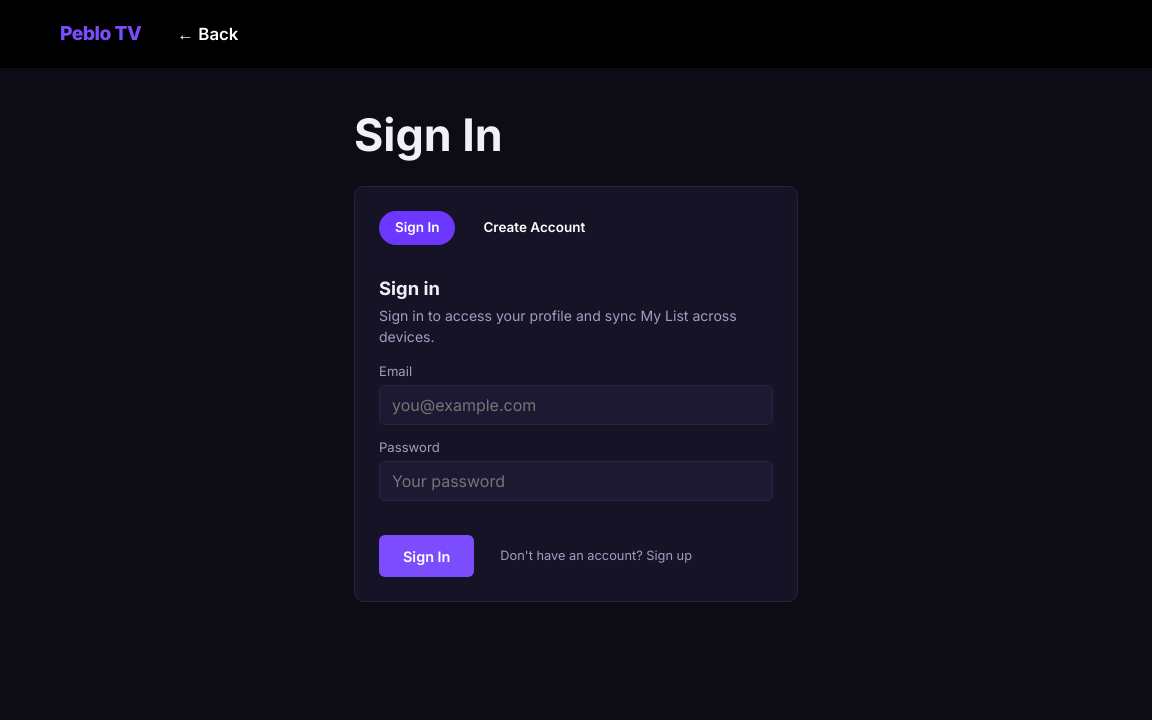
Scenario: Profile page › signs in and shows account details
The width and height of the screenshot is (1152, 720).
Type "ankit@example.com" into the field labelled "Email". click: (576, 405)
box: left=379, top=385, right=773, bottom=425
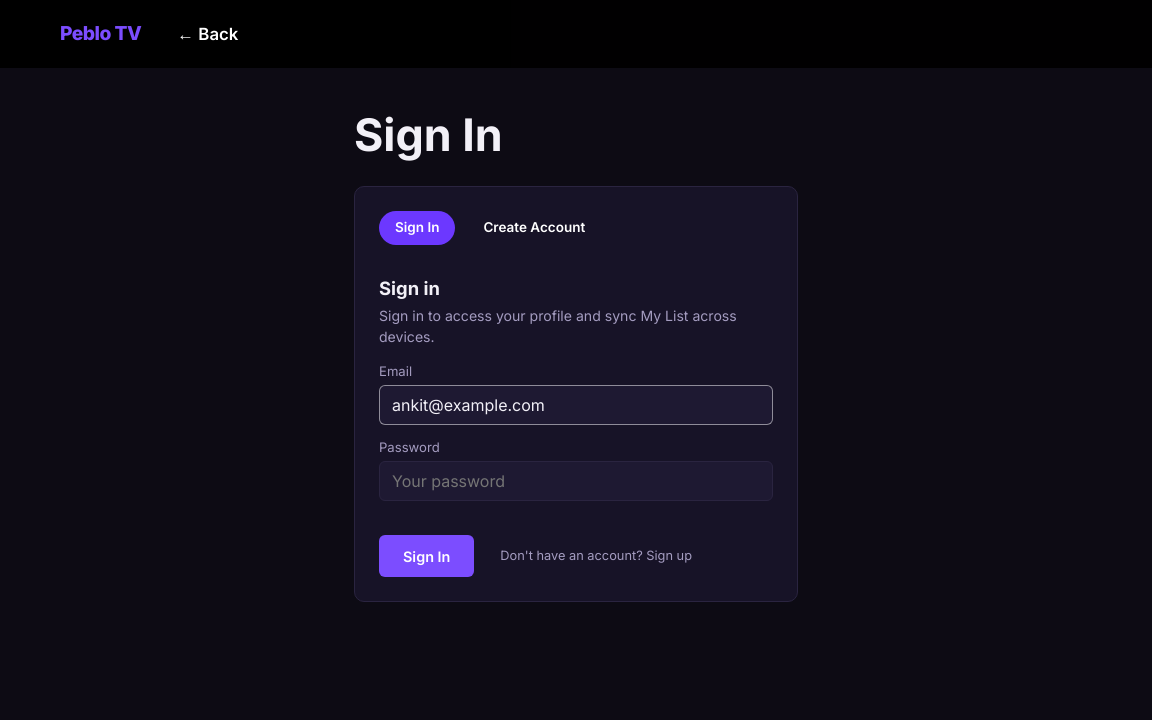
Type "secret123" into the password field labelled "Password". click: (576, 481)
box: left=379, top=461, right=773, bottom=501
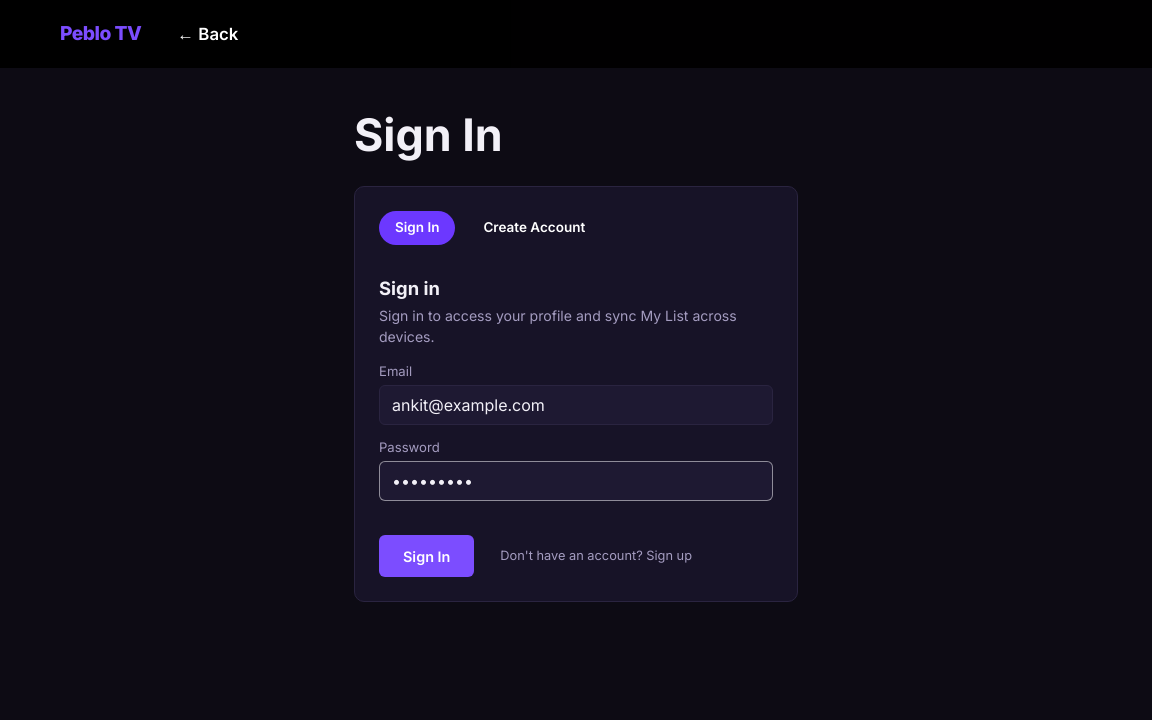
[0] is the Sign In mode tab, [1] is the form submit button.
Click the button "Sign In" below "Password". click: (427, 556)
box: left=379, top=535, right=474, bottom=577
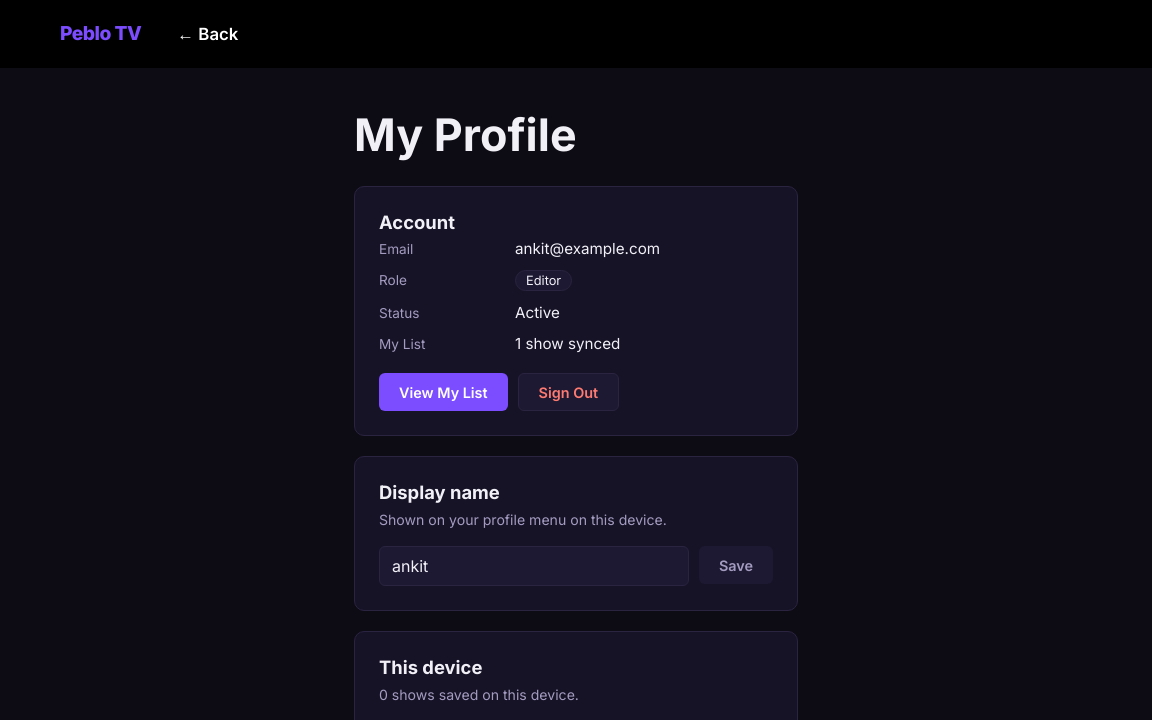
Expected: the text "ankit@example.com" is shown, left=515, top=239, right=660, bottom=258
Expected: the text "1 show synced" is shown, left=515, top=334, right=620, bottom=353
